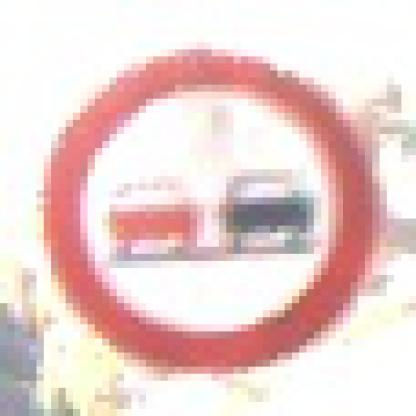No Overtaking: (45, 43, 380, 382)
